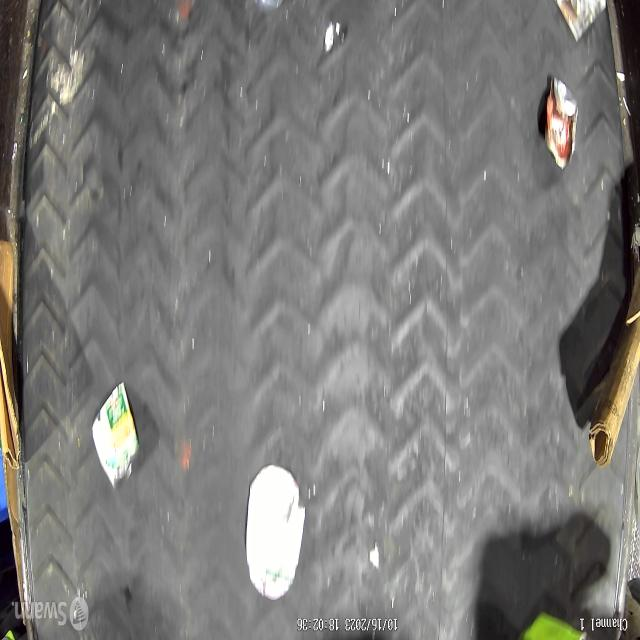can: (92, 381, 140, 492), (544, 75, 580, 169)
